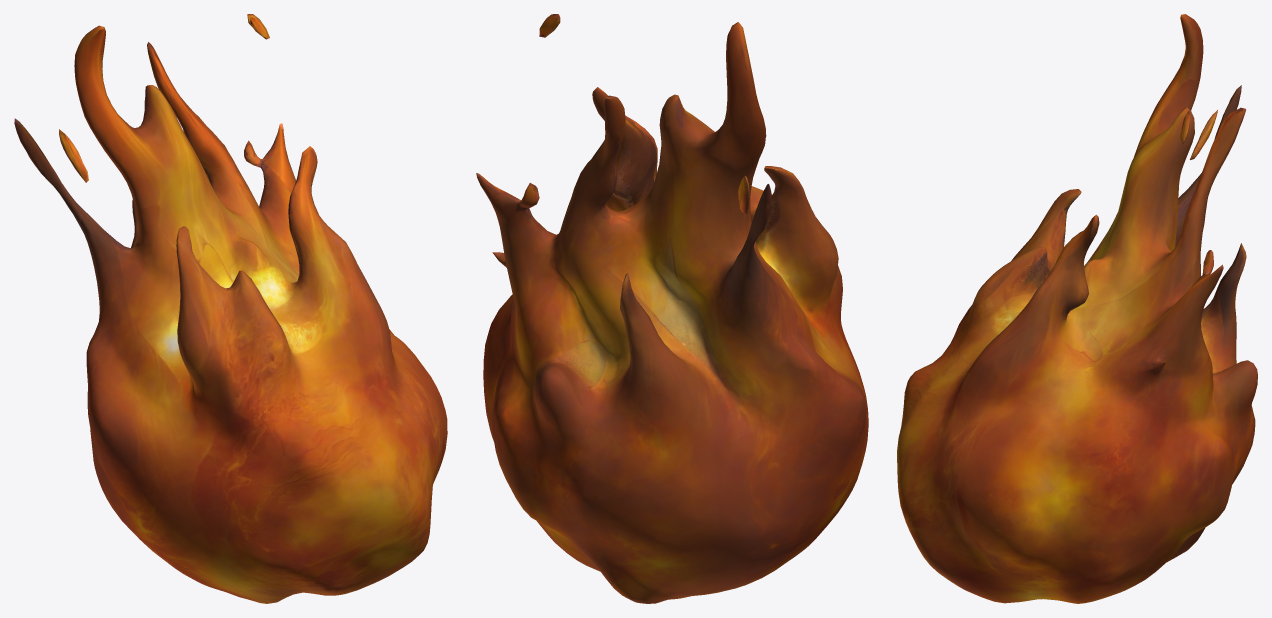
The model's file is proj_fire.glb.
3 renders of one model, left to right at view 1: azimuth 30°, elevation 25°; view 2: azimuth 150°, elevation 25°; view 3: azimuth 270°, elevation 25°, orthographic. The views are drawn at different scales.
Visible parts, largest first — view 1: Fireball; view 2: Fireball; view 3: Fireball.
Part boxes in pixels (x1=…): Fireball: x1=14, y1=14, x2=447, y2=603; Fireball: x1=476, y1=14, x2=868, y2=603; Fireball: x1=897, y1=14, x2=1257, y2=603.
Size of the model in its own units: 1.2 by 1.99 by 1.25.
Materials: 1 (1 with a texture image).
